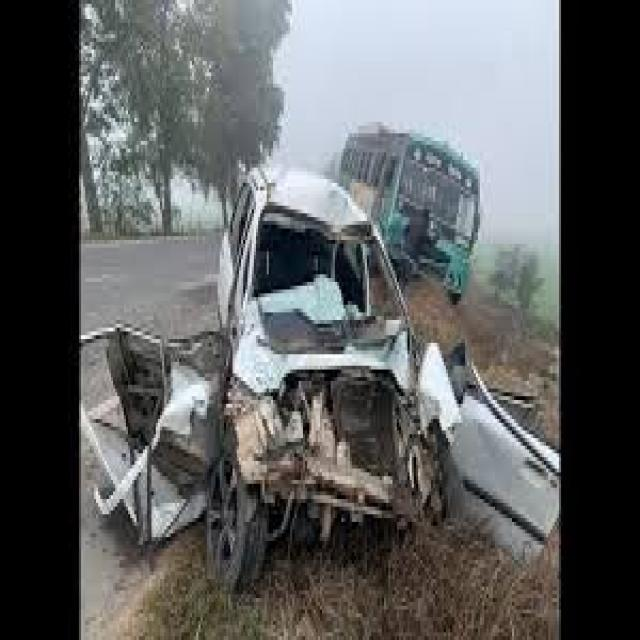car-serious-accident: (164, 79, 540, 615)
